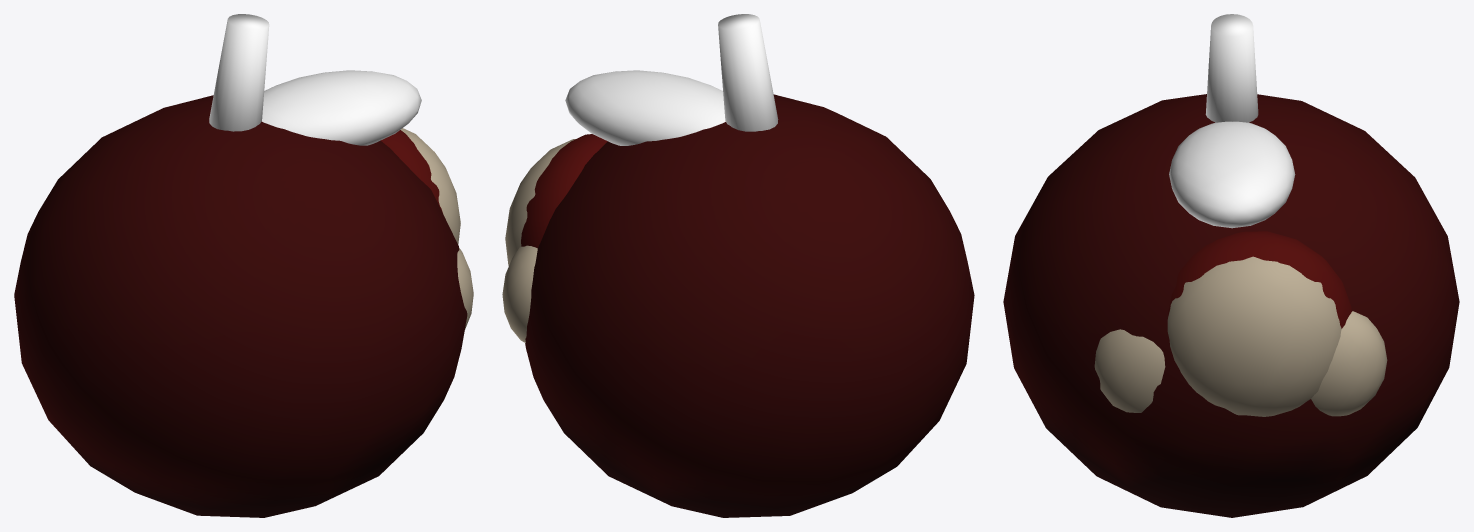
Rendered from apple-with-bite-taken-out.obj.
The picture shows the model from 3 angles, left to right: view 1: azimuth 30°, elevation 25°; view 2: azimuth 150°, elevation 25°; view 3: azimuth 270°, elevation 25°; orthographic projection.
Visible parts, largest first — view 1: apple-with-bite; view 2: apple-with-bite; view 3: apple-with-bite.
Boxes of the visible parts, left/top/right/bottom form: apple-with-bite: left=14, top=14, right=473, bottom=517; apple-with-bite: left=502, top=14, right=974, bottom=517; apple-with-bite: left=1003, top=14, right=1459, bottom=517.
Bounding box in the file's own units: 0.1811 × 0.1997 × 0.1735.
